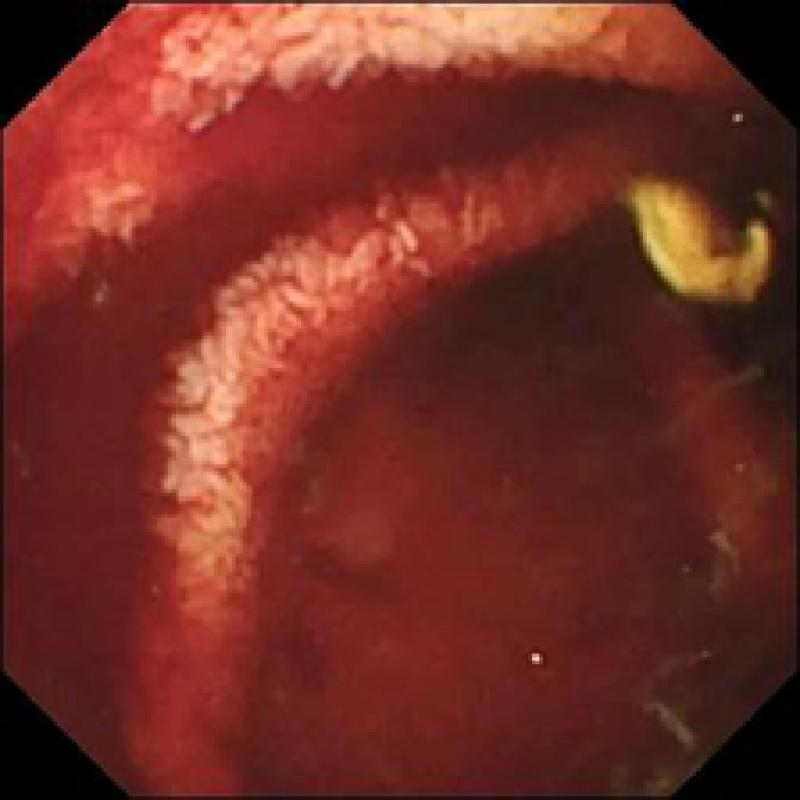bleeding: (0, 53, 800, 800)
